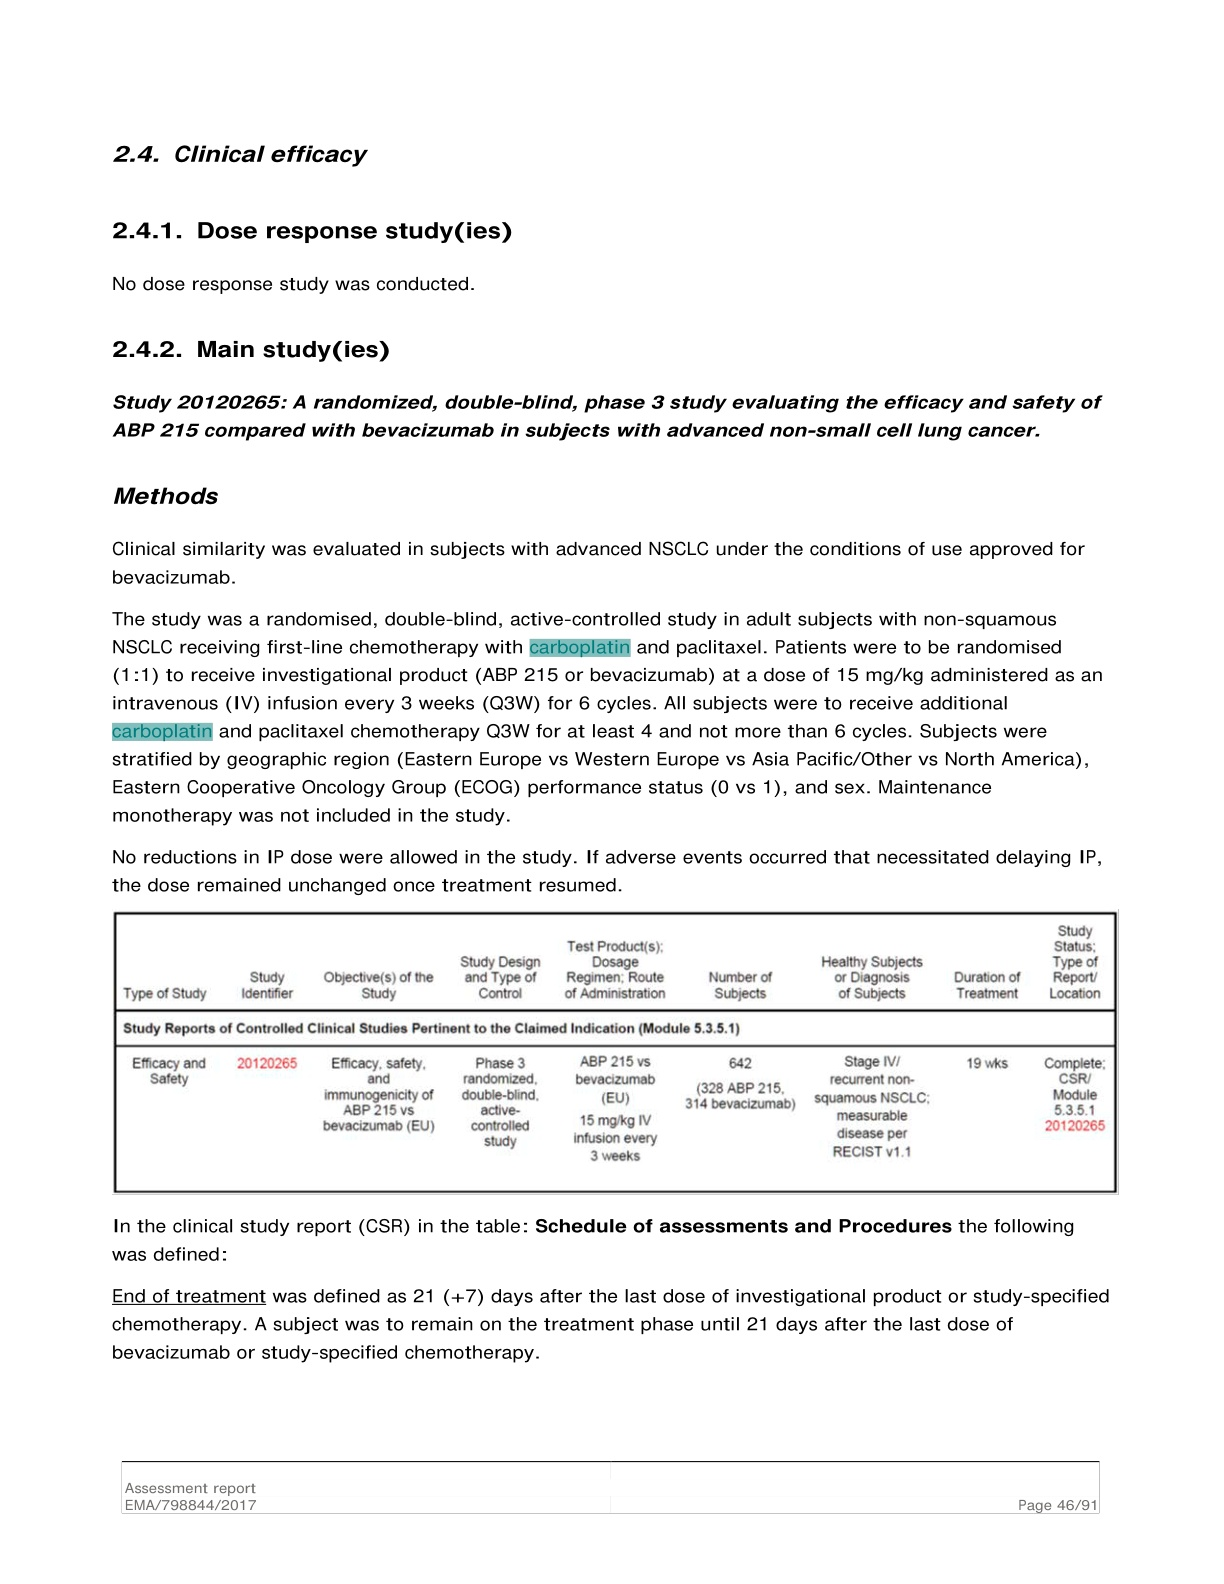partial_lined_merged_cells: (113, 912, 1119, 1194)
